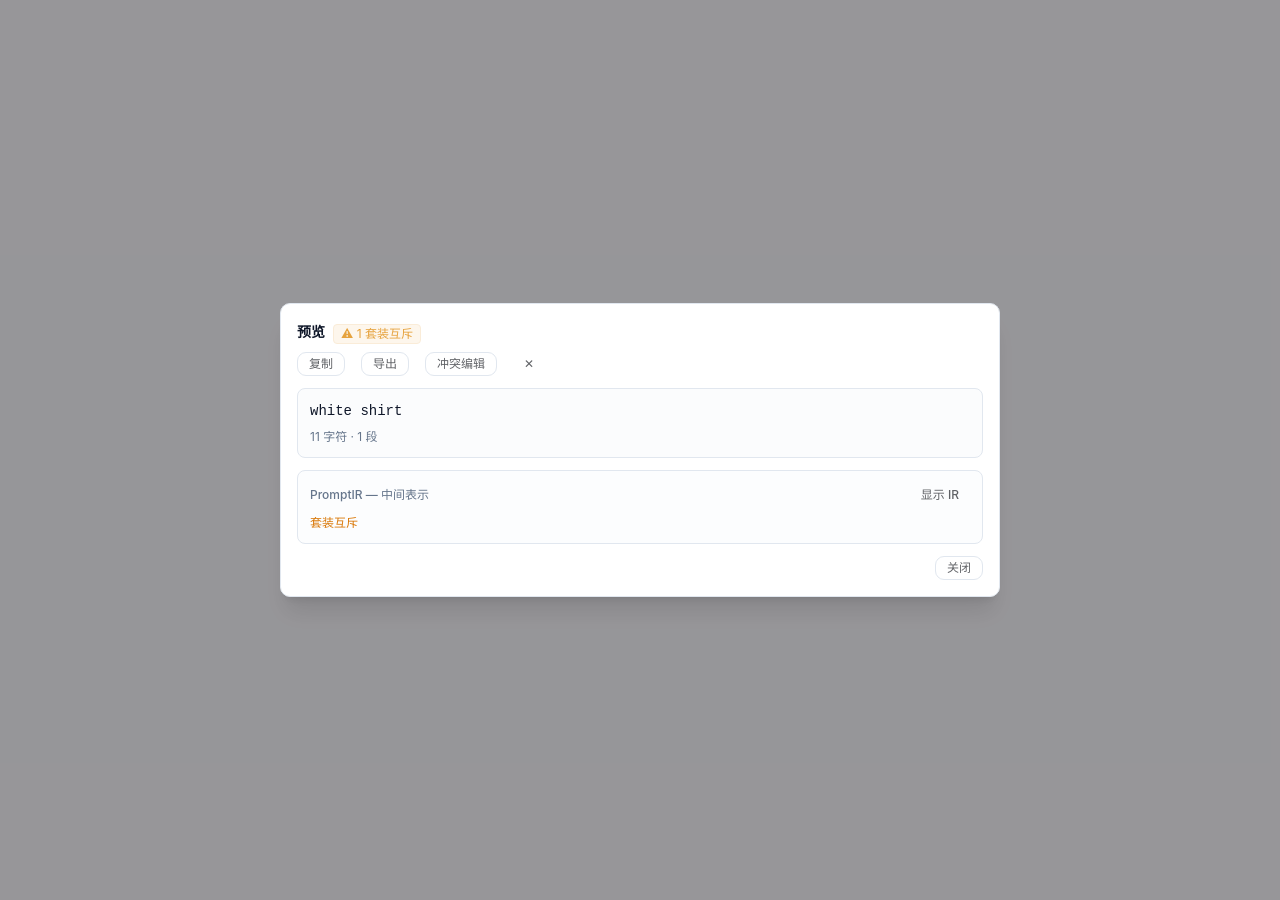
Test: PromptPreviewDialog › preview-ir-toggle 切换 ir-json 与 warnings 显隐
Expected: the text "套装互斥" is shown, [310, 515, 358, 530]
What coordinates should you click on to do the following:
click the button with test id "preview-ir-toggle"
I would click on:
 (940, 495)
Its box is [910, 483, 970, 507].
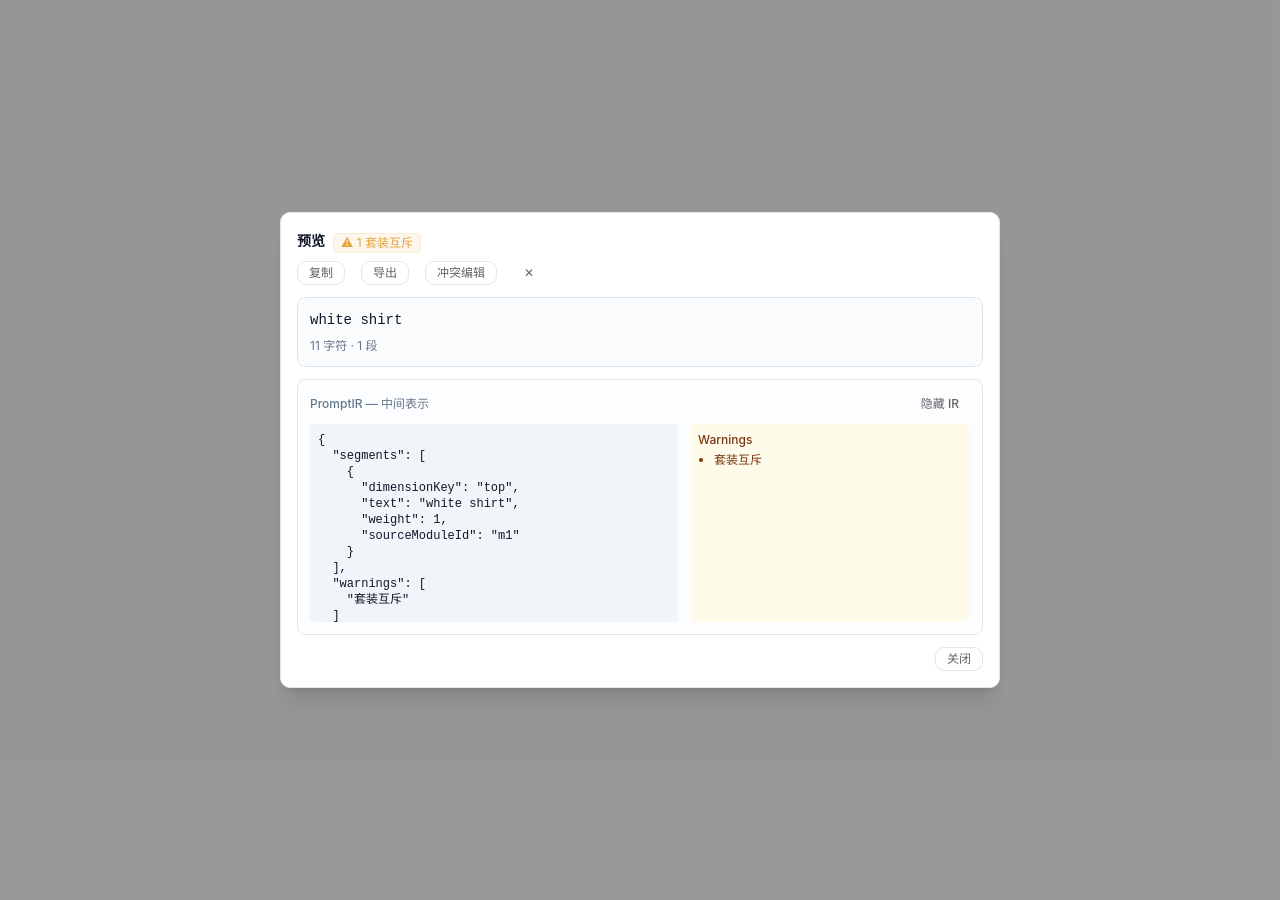
Result: the text with test id "preview-ir-json" is shown at [310, 424, 678, 622]
Result: the element with test id "preview-warnings" is shown at [690, 424, 970, 622]
Result: the text with test id "preview-ir-json" shows "white shirt" at [318, 433, 520, 622]
